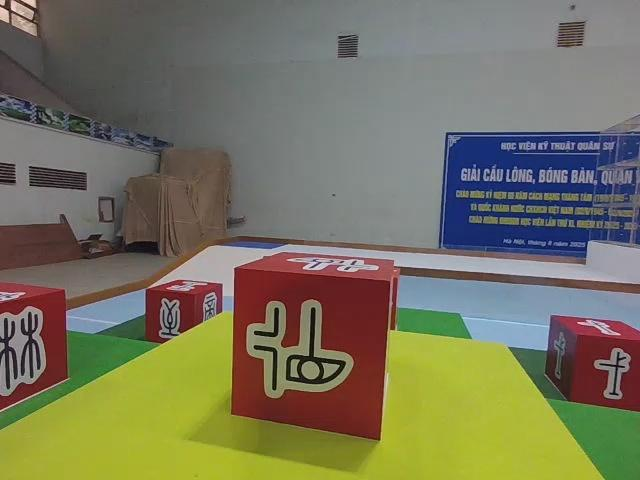R2 Fake: (0, 276, 71, 411), (142, 276, 225, 347)
R2 Real: (229, 249, 397, 445), (542, 312, 640, 415)
